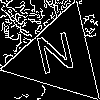N: (33, 31, 79, 84)
